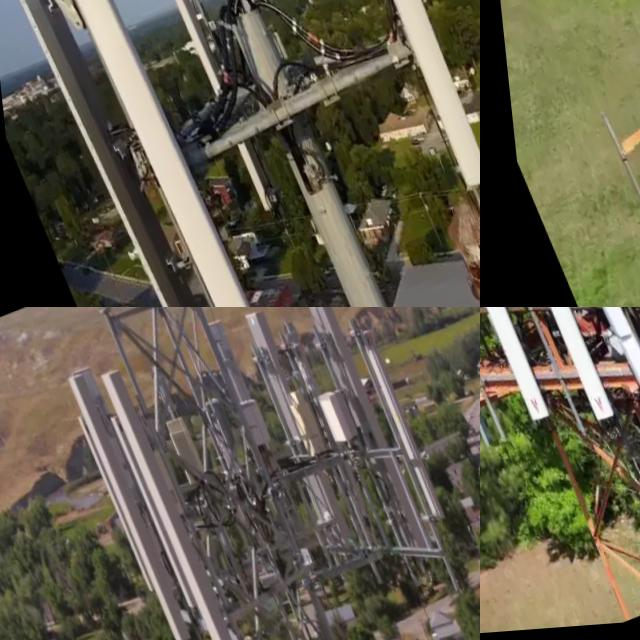GSM Antenna: (48, 0, 239, 307), (4, 0, 192, 307), (89, 351, 239, 640), (55, 352, 201, 640), (238, 307, 380, 600), (297, 307, 436, 580), (382, 0, 480, 204), (357, 336, 447, 538), (65, 404, 152, 612), (507, 307, 615, 444), (480, 307, 551, 441), (576, 307, 640, 410), (157, 411, 211, 498)
Microwave Antenna: (148, 0, 275, 233), (198, 0, 275, 74)
